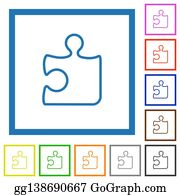puzzle piece: (35, 29, 111, 111)
